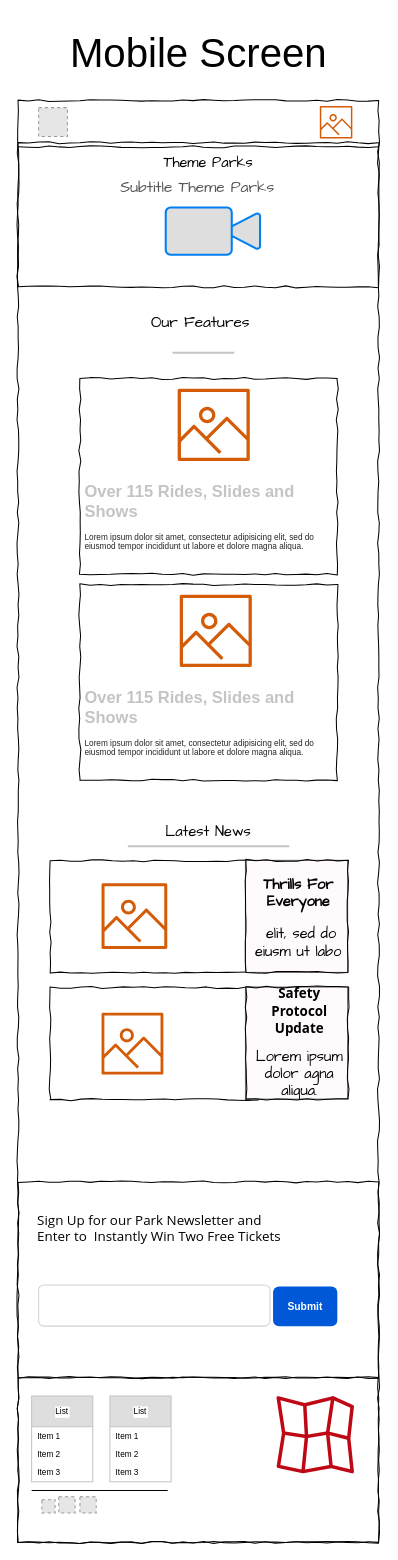
Some shapes in this 398 by 1560 pixel diagram are drawn without their labels. Grey dashed boxes stand in for pictures. Here are the shapes that lost their labels. From the top down, the centre of each, then its label:
the point at 212,230: Video Backgrund
the point at 154,1305: enter your email
